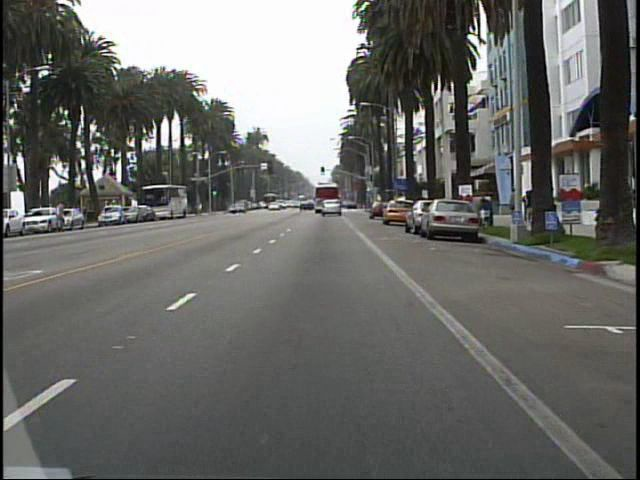person: (535, 180, 553, 230), (514, 182, 515, 226)
